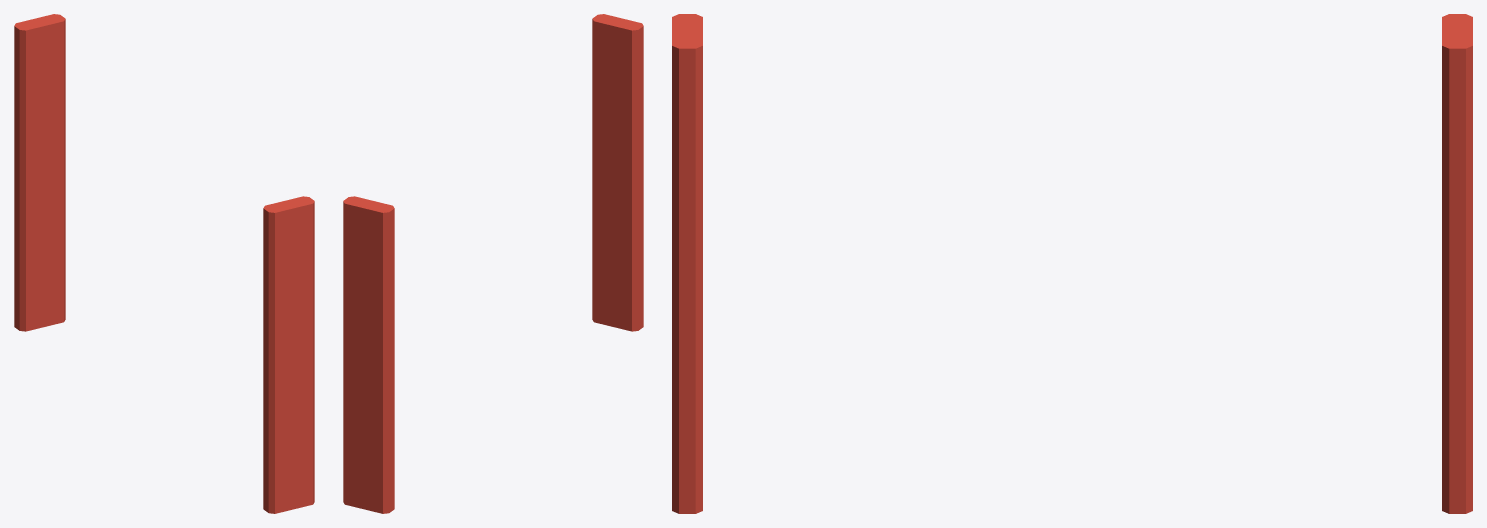
File: BridgePillarFBX.fbx
The picture shows the model from 3 angles, left to right: view 1: azimuth 30°, elevation 25°; view 2: azimuth 150°, elevation 25°; view 3: azimuth 270°, elevation 25°; orthographic projection. The views are drawn at different scales.
Visible parts, largest first — view 1: BridgePillar; view 2: BridgePillar; view 3: BridgePillar.
Boxes of the visible parts, x1=… form: BridgePillar: x1=14, y1=14, x2=314, y2=513; BridgePillar: x1=343, y1=14, x2=643, y2=513; BridgePillar: x1=672, y1=14, x2=1472, y2=513.
Size of the model in its own units: 8 by 50 by 78.
